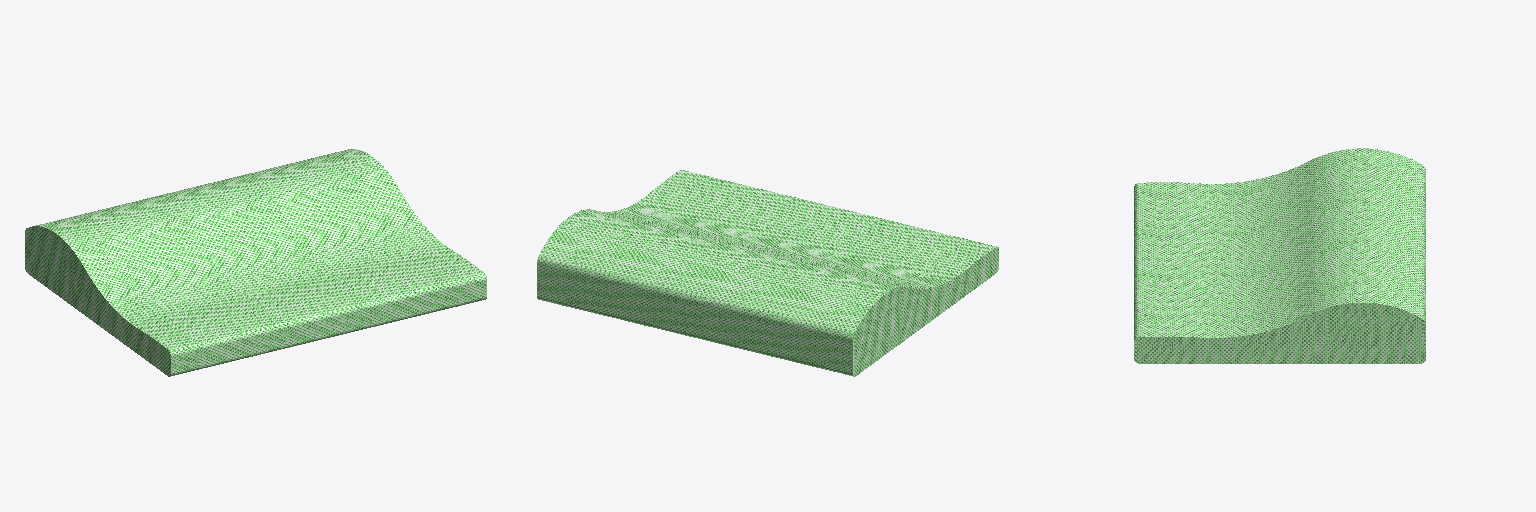
3 renders of one model, left to right at view 1: azimuth 30°, elevation 25°; view 2: azimuth 150°, elevation 25°; view 3: azimuth 270°, elevation 25°, orthographic.
Parts seen in each view (by area): view 1: green2; view 2: green2; view 3: green2.
Part boxes in pixels (x1,y1,x2,y2): green2: (25,149,486,376); green2: (537,170,998,376); green2: (1134,148,1425,363).
Bounding box in the file's own units: 5.68 × 1.05 × 4.54.
1 materials, 1 textured.